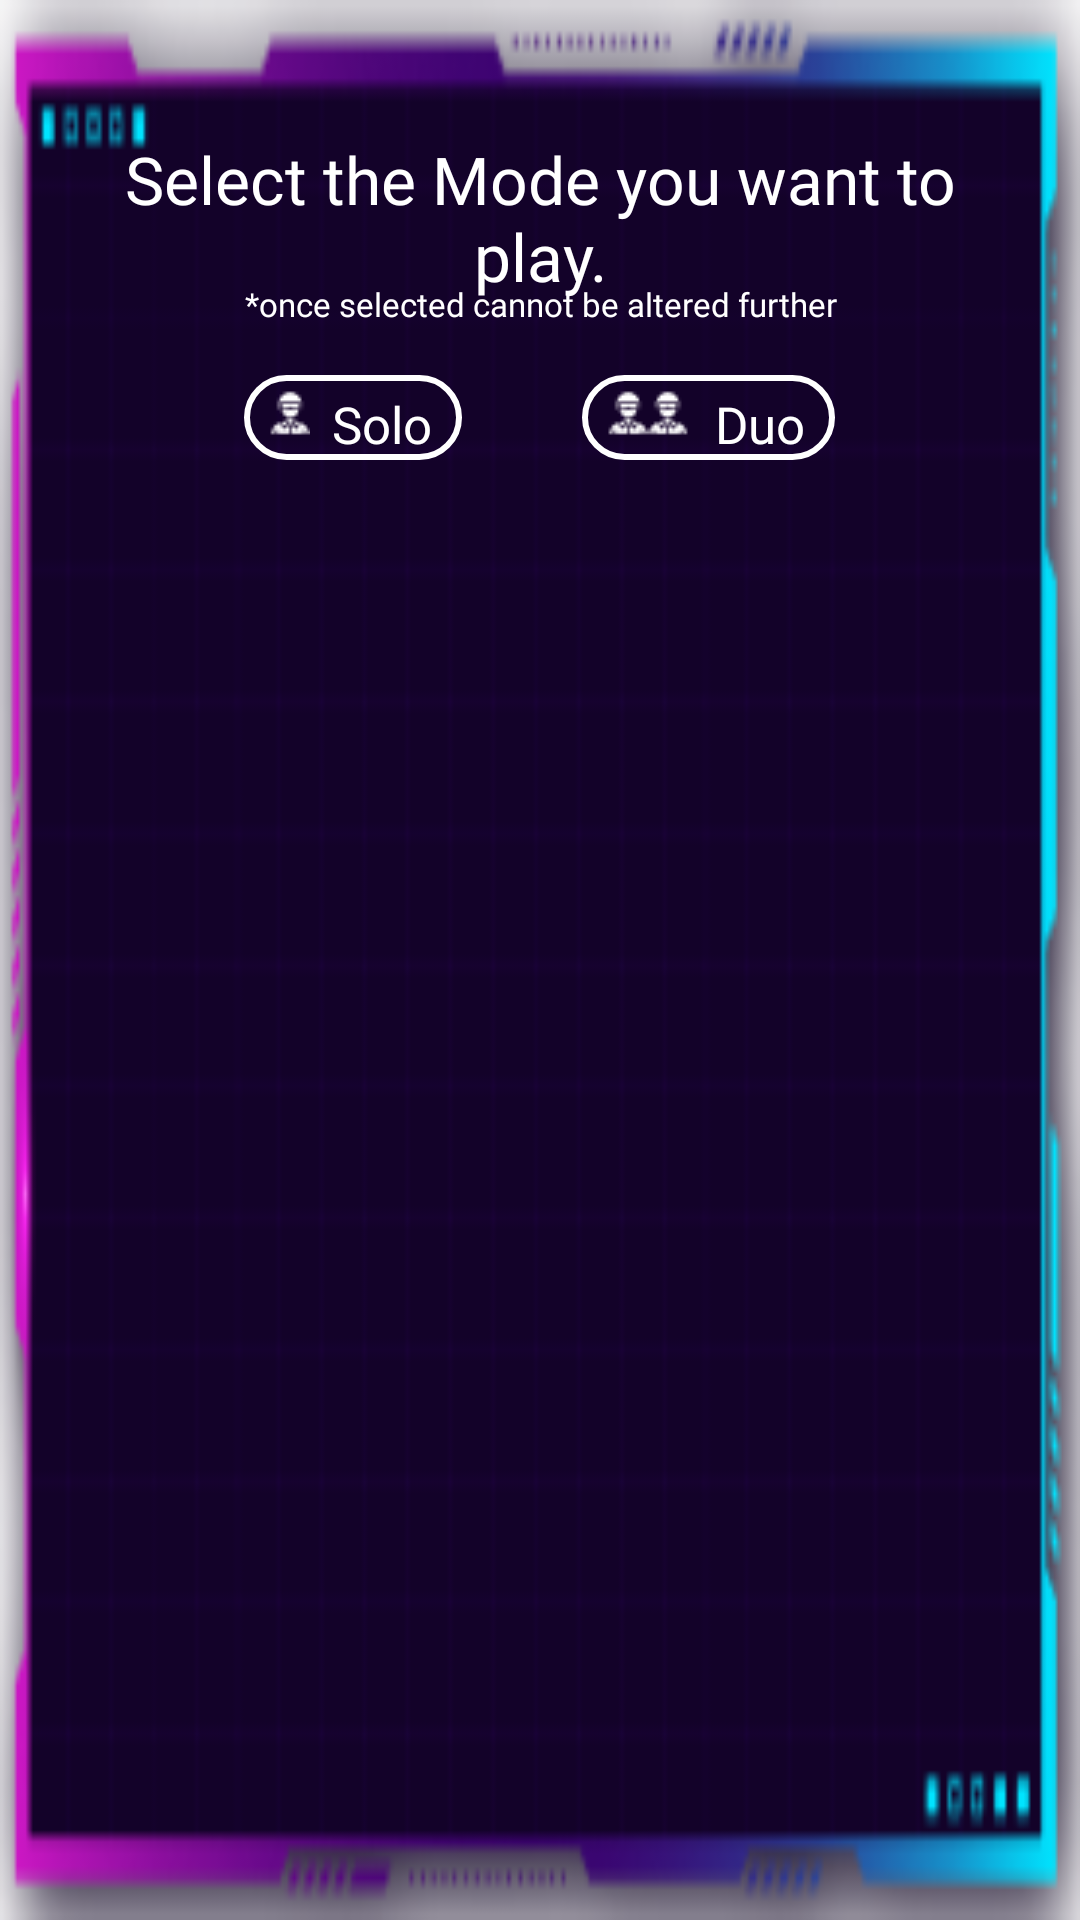

Where icons sit on this 1080*1920 app screen, as (x1, y1, x2, y2):
duo illustration: (608, 391, 688, 435)
